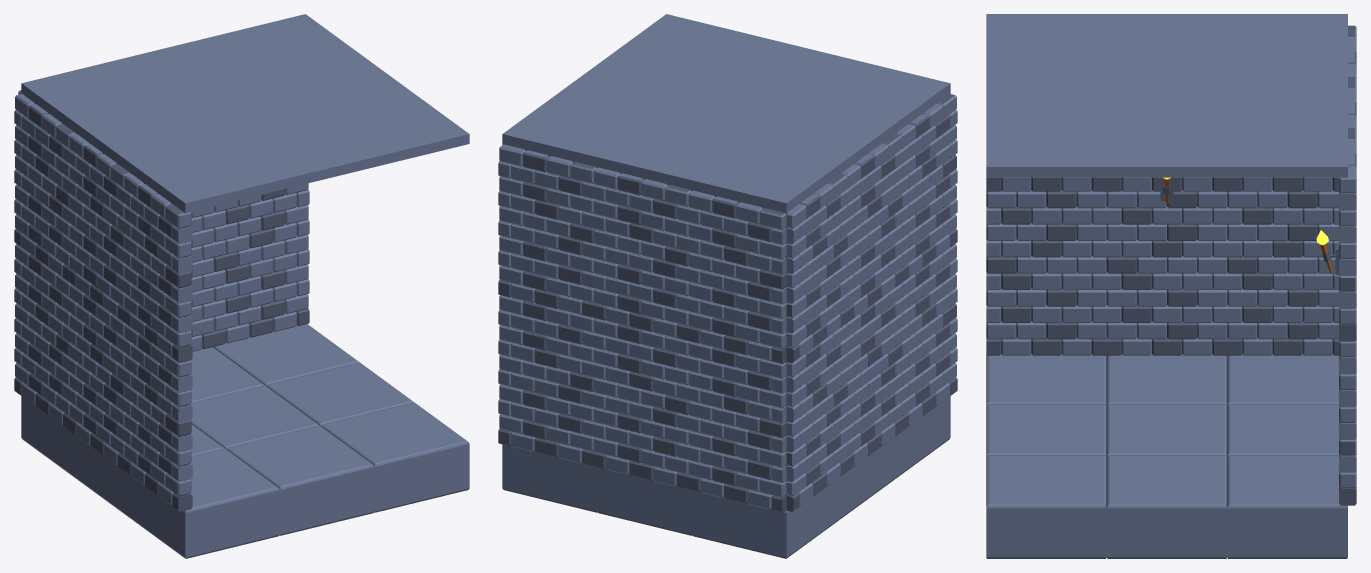
The model's file is Corridor_Corner.gltf.
3 renders of one model, left to right at view 1: azimuth 30°, elevation 25°; view 2: azimuth 150°, elevation 25°; view 3: azimuth 270°, elevation 25°, orthographic. The views are drawn at different scales.
Parts seen in each view (by area): view 1: Floor, Ceiling, N_Wall_4, W_WallUp_4, W_Wall_4, W_WallUp_0, W_WallUp_2, W_Wall_0, W_Wall_2, N_Wall_2; view 2: Ceiling, Floor, N_WallUp_0, N_Wall_0, N_WallUp_4, N_WallUp_2, N_Wall_4, N_Wall_2, W_WallUp_0, W_Wall_0, W_WallUp_2, W_WallUp_4 (+2 smaller); view 3: Floor, Ceiling, W_Wall_2, W_Wall_4, W_Wall_0, N_WallUp_4, N_Wall_4, W_WallUp_4, W_WallUp_0, W_WallUp_2, N_WallUp_0, N_WallUp_2.
Boxes of the visible parts, <box> form: Floor: <box>21,324,469,558</box>; Ceiling: <box>21,14,469,213</box>; N_Wall_4: <box>213,183,309,346</box>; W_WallUp_4: <box>123,173,192,363</box>; W_Wall_4: <box>123,324,192,511</box>; W_WallUp_0: <box>14,93,75,282</box>; W_WallUp_2: <box>69,133,130,321</box>; W_Wall_0: <box>14,244,70,430</box>; W_Wall_2: <box>69,284,125,470</box>; N_Wall_2: <box>190,206,214,351</box>; Ceiling: <box>502,14,950,213</box>; Floor: <box>502,396,950,558</box>; N_WallUp_0: <box>687,190,786,364</box>; N_Wall_0: <box>687,341,786,512</box>; N_WallUp_4: <box>498,144,596,317</box>; N_WallUp_2: <box>593,167,691,340</box>; N_Wall_4: <box>498,295,594,466</box>; N_Wall_2: <box>593,318,689,489</box>; W_WallUp_0: <box>786,173,848,363</box>; W_Wall_0: <box>786,324,848,511</box>; W_WallUp_2: <box>841,133,902,321</box>; W_WallUp_4: <box>896,93,957,282</box>; Floor: <box>986,354,1347,558</box>; Ceiling: <box>986,14,1347,177</box>; W_Wall_2: <box>1106,190,1227,355</box>; W_Wall_4: <box>986,190,1106,355</box>; W_Wall_0: <box>1227,190,1338,355</box>; N_WallUp_4: <box>1339,127,1356,341</box>; N_Wall_4: <box>1339,340,1356,505</box>; W_WallUp_4: <box>986,177,1106,191</box>; W_WallUp_0: <box>1227,177,1338,191</box>; W_WallUp_2: <box>1106,177,1227,191</box>; N_WallUp_0: <box>1348,25,1356,77</box>; N_WallUp_2: <box>1348,76,1356,128</box>.
Size of the model in its own units: 6.15 by 7.2 by 6.15.
